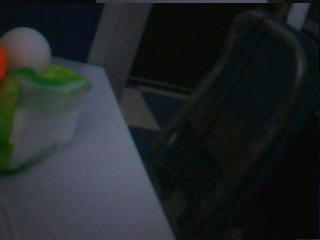oball: (0, 43, 7, 82)
